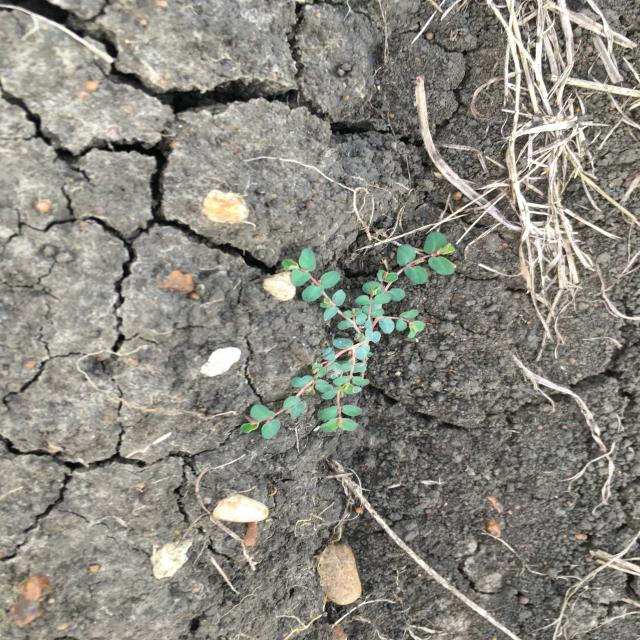SpottedSpurge: (237, 228, 460, 441)
